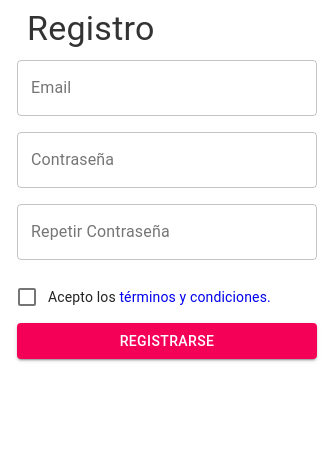
testing FormRegister › testing Inputpassword › should contain at least 6 characters
Type "a4b5c" into the password field labelled "Contraseña" at (167, 160), box [17,132,317,188]
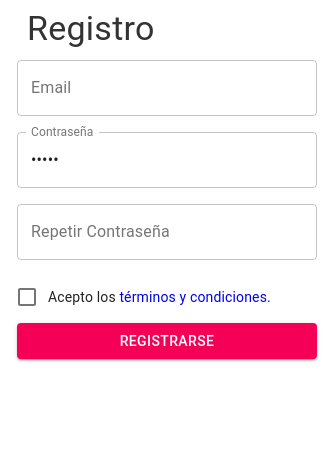
Click the button "Registrarse" at (167, 341), box [17,323,317,360]
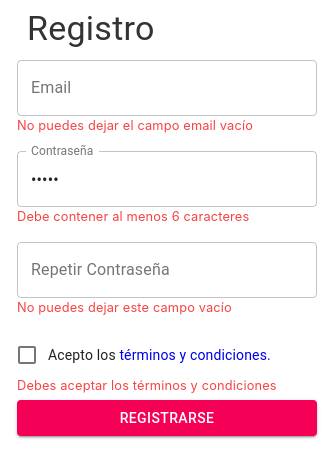
expect the text "Debe contener al menos 6 caracteres" is shown: met, box [17,209,249,224]
